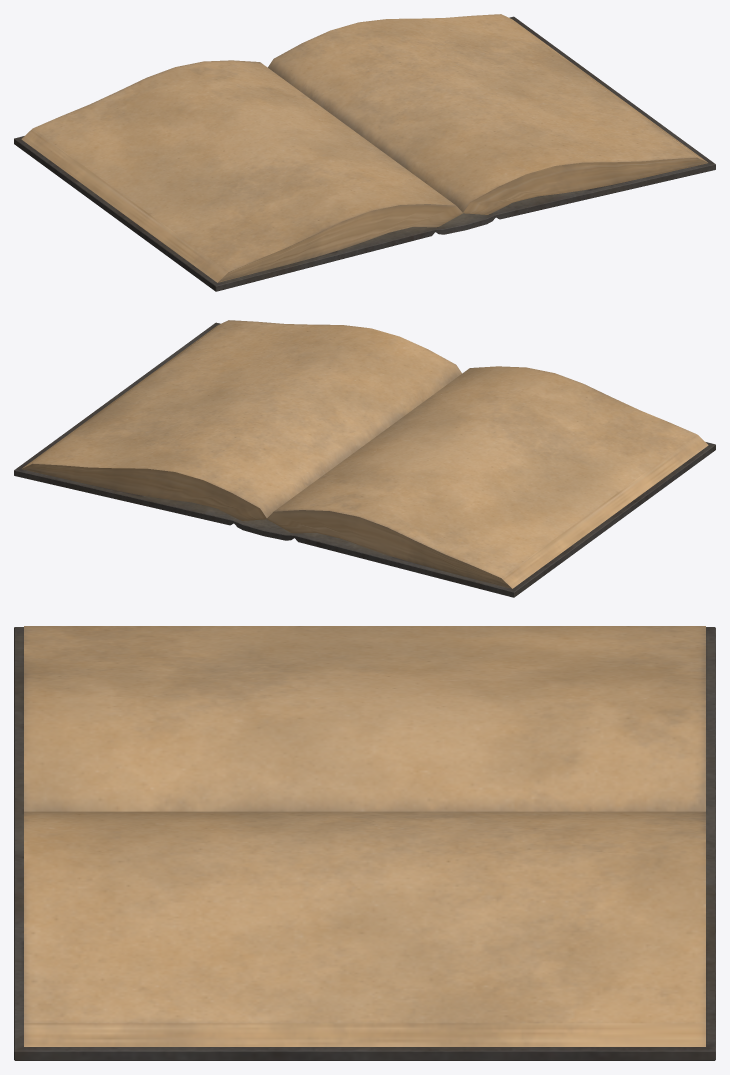
The model's file is OpenAntiqueBook.obj.
3 views of the same model, one above another, from view 1: azimuth 30°, elevation 25°; view 2: azimuth 150°, elevation 25°; view 3: azimuth 270°, elevation 25° (orthographic). The views are drawn at different scales.
Parts seen in each view (by area): view 1: open_antique_book; view 2: open_antique_book; view 3: open_antique_book.
Boxes of the visible parts, box(x1,y1,x2,y2) form: open_antique_book: box(14, 14, 715, 291); open_antique_book: box(14, 320, 715, 597); open_antique_book: box(14, 626, 715, 1060).
Bounding box in the file's own units: 33.99 × 2.63 × 23.77.
Materials: 1 (1 with a texture image).
